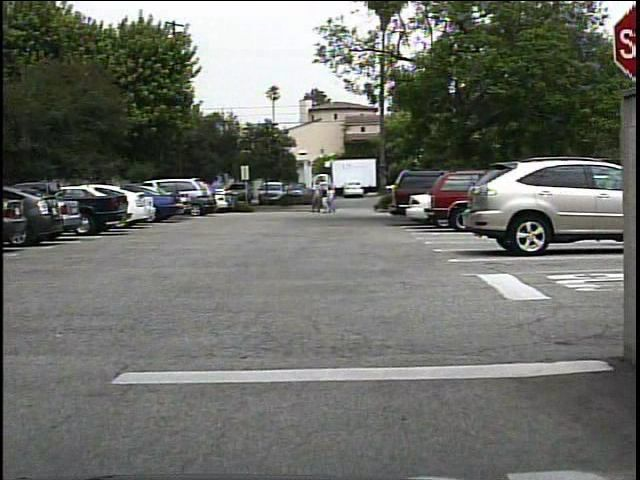person: (324, 186, 342, 216), (308, 185, 323, 215), (326, 186, 327, 217)
